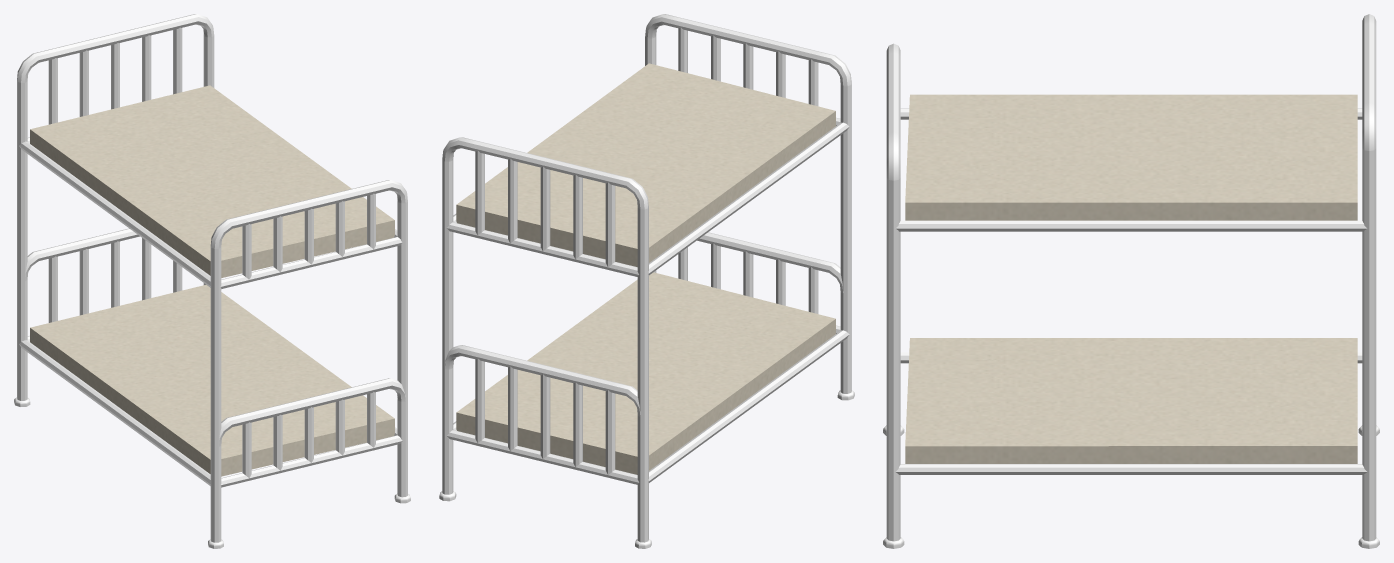
The model's file is double_decked_bed.fbx.
3 views of the same model, side by side, from view 1: azimuth 30°, elevation 25°; view 2: azimuth 150°, elevation 25°; view 3: azimuth 270°, elevation 25° (orthographic). The views are drawn at different scales.
Visible parts, largest first — view 1: double_decked_bed; view 2: double_decked_bed; view 3: double_decked_bed.
Boxes of the visible parts, box(x1,y1,x2,y2) form: double_decked_bed: box(14, 14, 410, 548); double_decked_bed: box(439, 14, 854, 548); double_decked_bed: box(883, 14, 1379, 548).
Size of the model in its own units: 130 by 215 by 227.
Materials: 1 (1 with a texture image).
